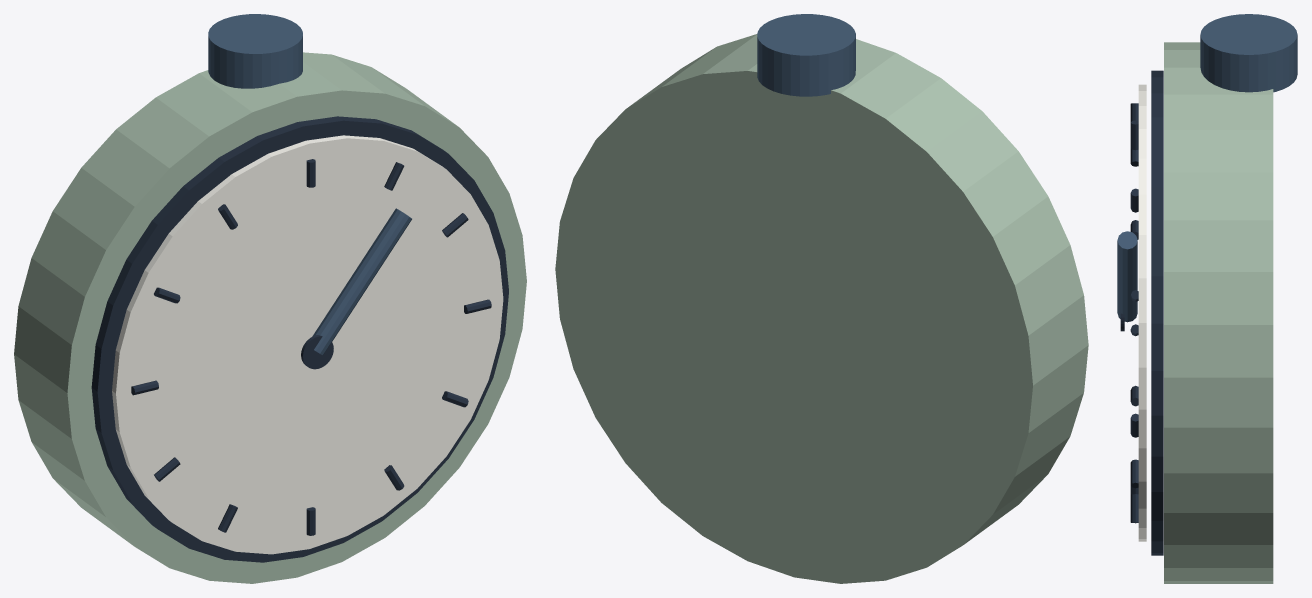
The model's file is timer.glb.
The picture shows the model from 3 angles, left to right: view 1: azimuth 30°, elevation 25°; view 2: azimuth 150°, elevation 25°; view 3: azimuth 270°, elevation 25°; orthographic projection. The views are drawn at different scales.
Visible parts, largest first — view 1: dial, housing, bezel, knob, timer hand0, hub; view 2: housing, knob; view 3: housing, knob, bezel, dial, timer hand0, tick 0, tick 5, tick 4.
Boxes of the visible parts, bbox=[...] form: dial: bbox=[112, 135, 503, 554]; housing: bbox=[14, 52, 526, 583]; bezel: bbox=[91, 116, 508, 562]; knob: bbox=[208, 14, 302, 88]; timer hand0: bbox=[312, 208, 411, 355]; hub: bbox=[301, 335, 333, 369]; housing: bbox=[555, 34, 1088, 583]; knob: bbox=[757, 14, 855, 96]; housing: bbox=[1164, 42, 1273, 583]; knob: bbox=[1200, 14, 1297, 92]; bezel: bbox=[1151, 70, 1163, 555]; dial: bbox=[1138, 84, 1146, 541]; timer hand0: bbox=[1117, 231, 1137, 322]; tick 0: bbox=[1130, 120, 1138, 150]; tick 5: bbox=[1130, 494, 1138, 523]; tick 4: bbox=[1130, 459, 1138, 488].
Bounding box in the file's own units: 1.34 × 1.43 × 0.445.
